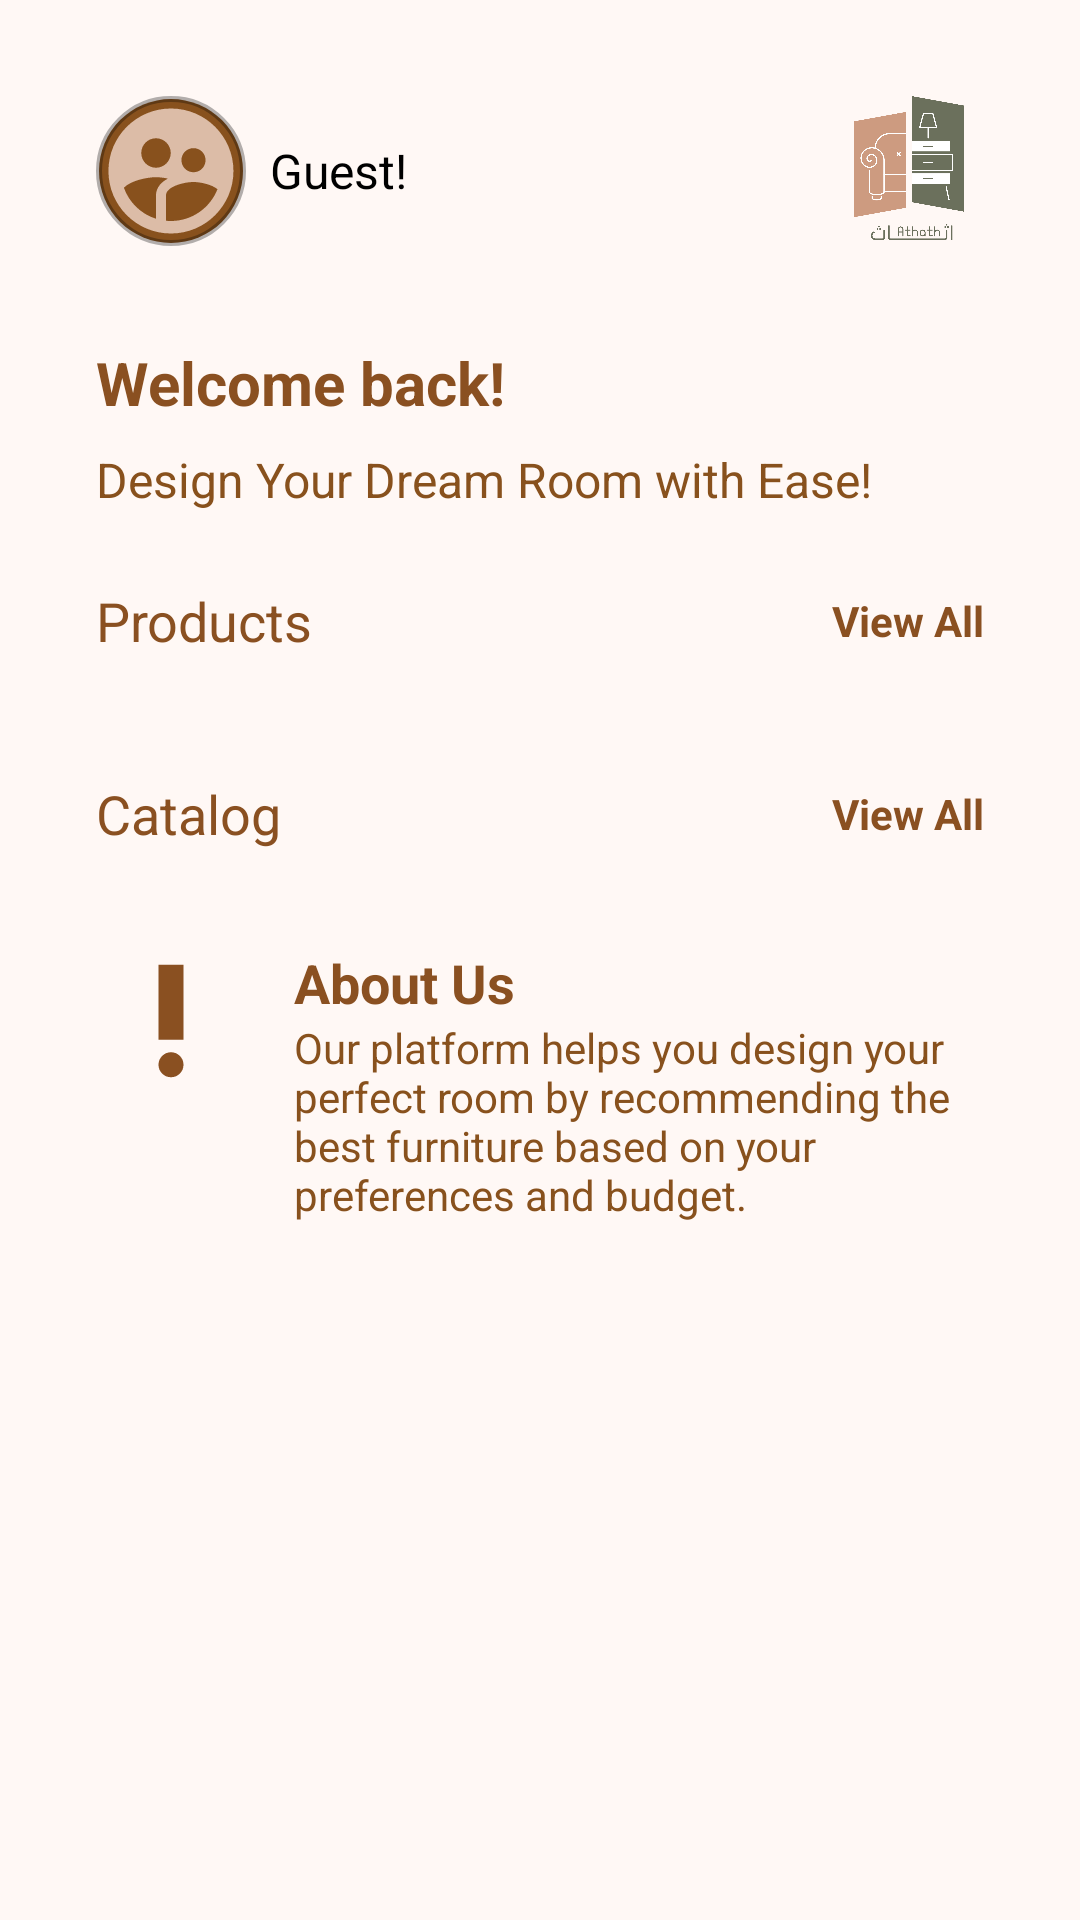

Locate icon controls on the screen. Image size 1080w x 1920h, boxes as BBox(x1, y1, x2, y2).
Profile Image: BBox(96, 96, 246, 246)
